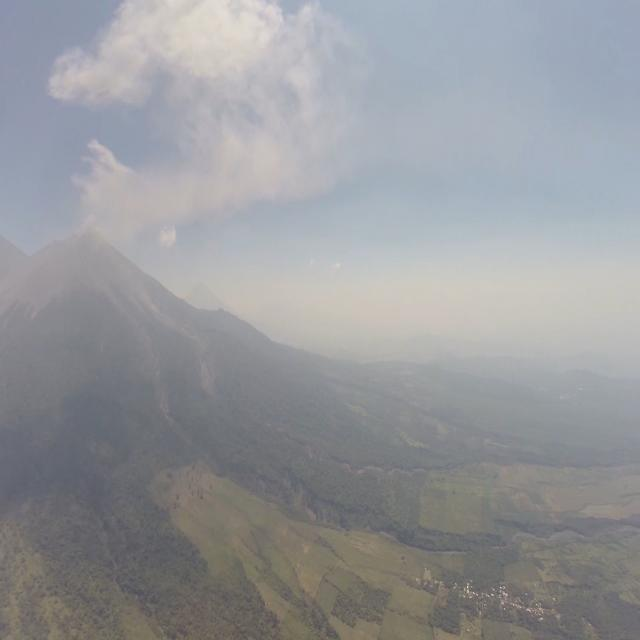Plume: (72, 136, 150, 242)
